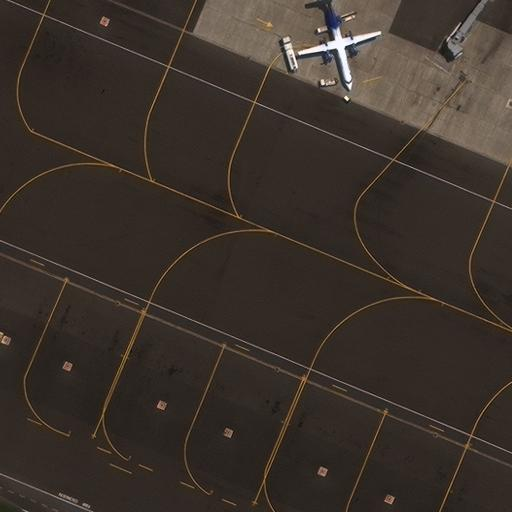Medium Civil Transport: (299, 0, 381, 90)
